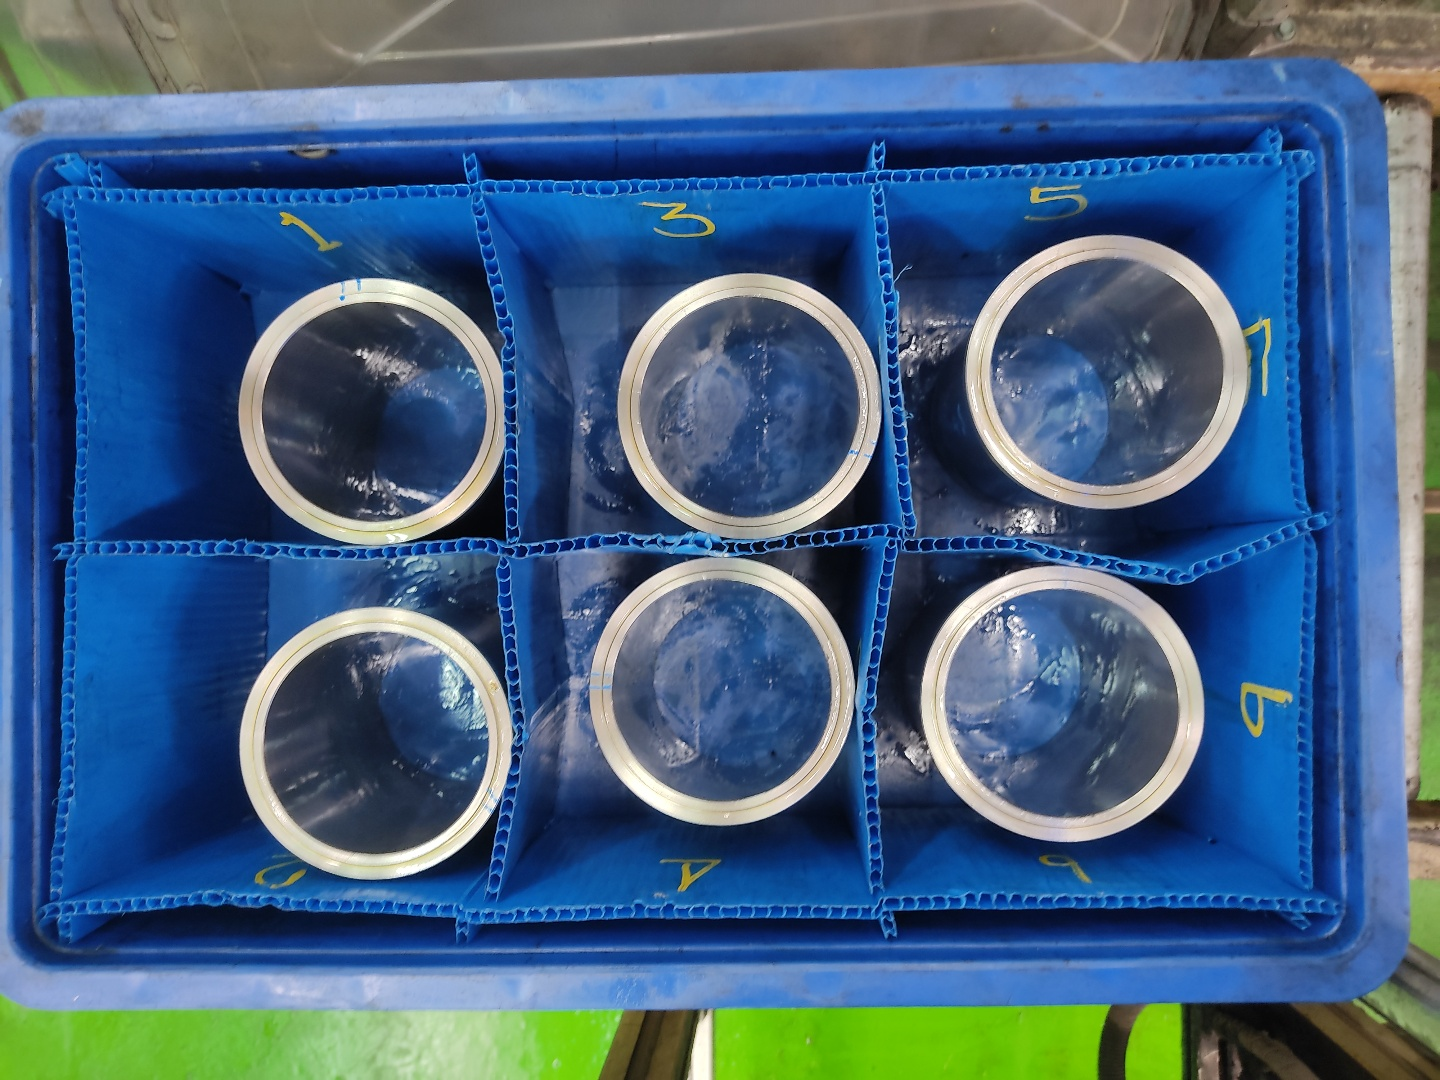cylinder: (916, 560, 1209, 847), (963, 233, 1257, 514), (232, 601, 520, 887), (584, 554, 862, 832), (612, 267, 886, 545), (235, 273, 509, 549)
